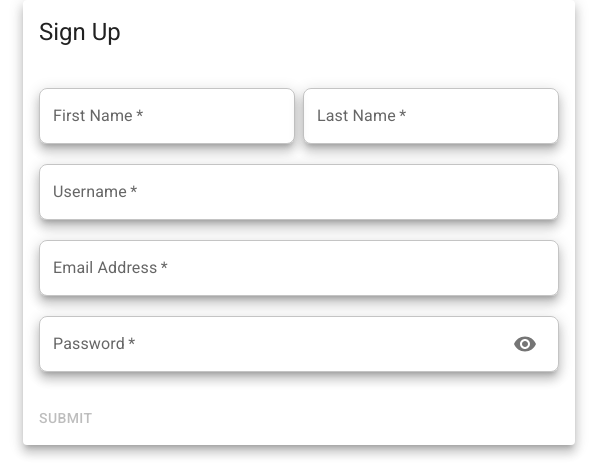
it: sign up › should enable the submit button when all fields are filled
Type "Joe" into the field labelled "First Name" at coordinates (167, 116), box [39,88,295,144]
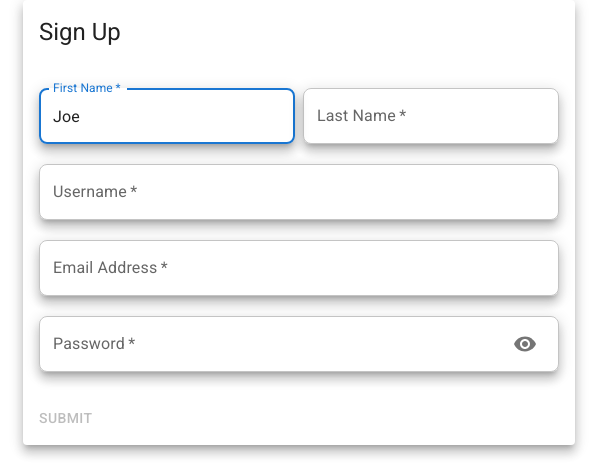
Type "Bloggs" into the field labelled "Last Name" at coordinates (431, 116), box [303,88,559,144]
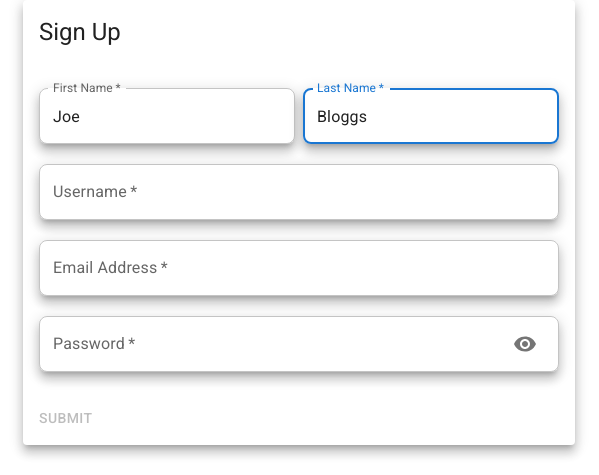
Type "jbloggs" into the field labelled "Username" at coordinates (299, 192), box [39,164,559,220]
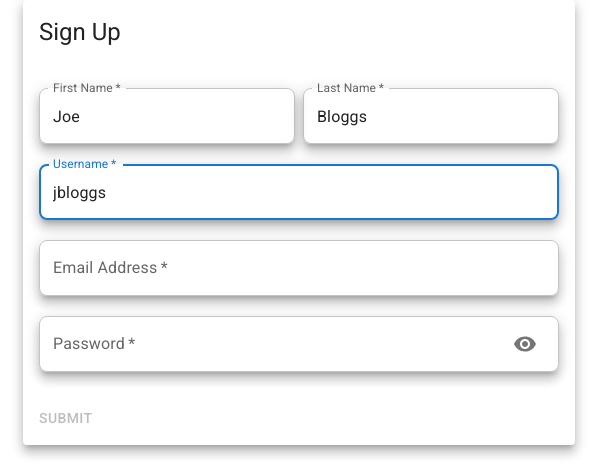
Type "jbloggs@email.com" into the field labelled "Email Address" at coordinates (299, 268), box [39,240,559,296]
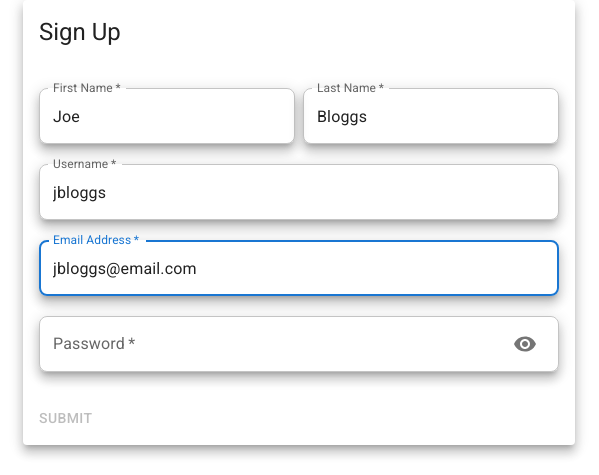
Type "SecretPassword" into the password field labelled "Password *" at coordinates (268, 344), box [39,316,497,372]
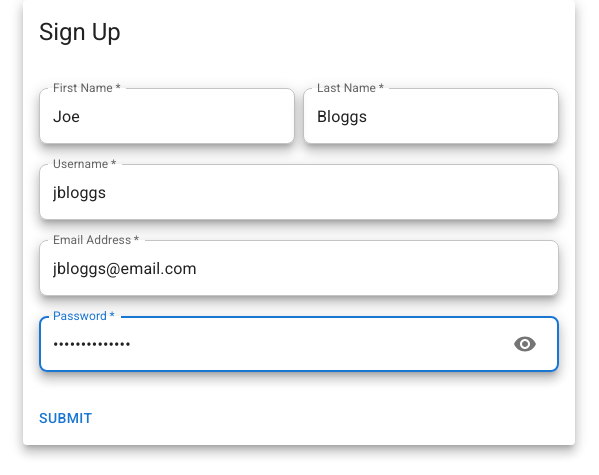
expect the button "Submit" is enabled: met, box [31,400,100,436]
